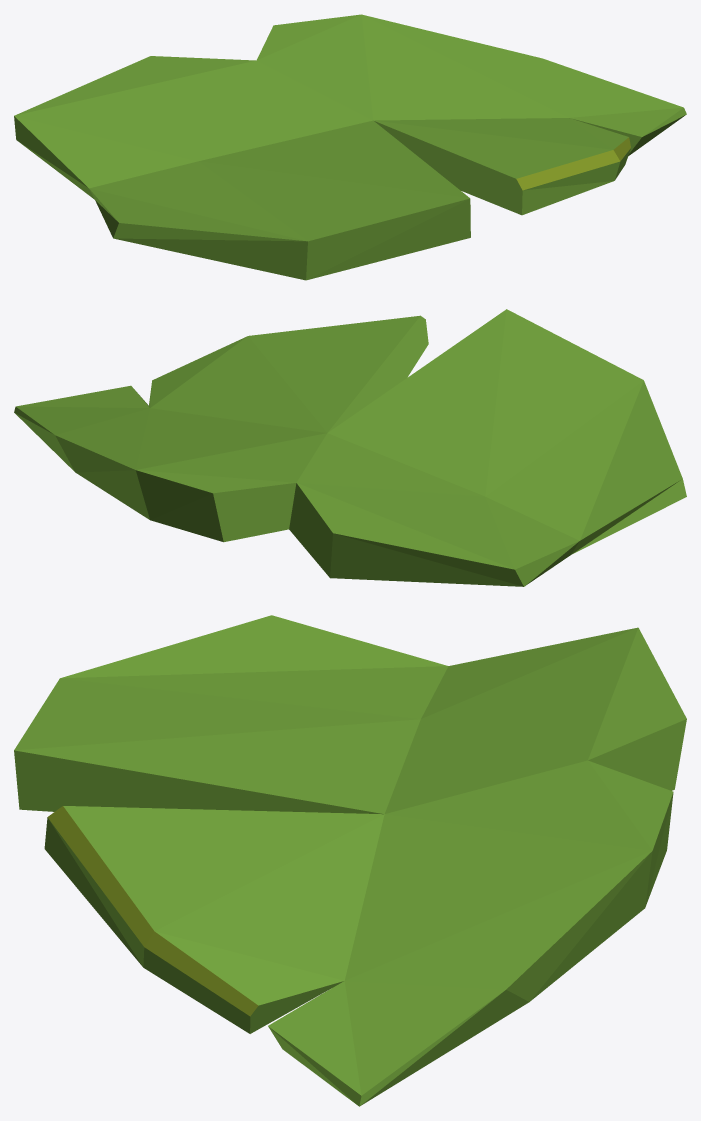
The model's file is EA_M_Env_Leaf_06a.fbx.
The picture shows the model from 3 angles, top to bottom: view 1: azimuth 30°, elevation 25°; view 2: azimuth 150°, elevation 25°; view 3: azimuth 270°, elevation 25°; orthographic projection. The views are drawn at different scales.
Parts seen in each view (by area): view 1: EA_M_Env_Leaf_06a_LOD0; view 2: EA_M_Env_Leaf_06a_LOD0; view 3: EA_M_Env_Leaf_06a_LOD0.
Part boxes in pixels (bbox=[...]): EA_M_Env_Leaf_06a_LOD0: bbox=[14, 14, 686, 280]; EA_M_Env_Leaf_06a_LOD0: bbox=[14, 309, 686, 586]; EA_M_Env_Leaf_06a_LOD0: bbox=[14, 615, 686, 1106].
Size of what is drawn, in the model's own units: 0.5162 by 0.0749 by 0.3577.
